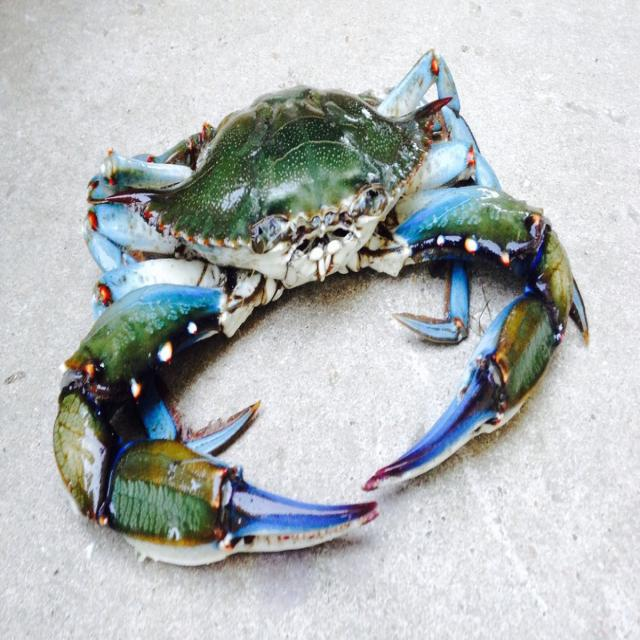crab: (122, 107, 483, 424)
